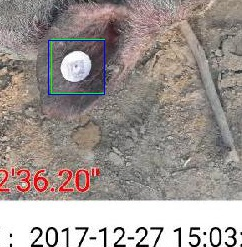text: (51, 39, 104, 93)
